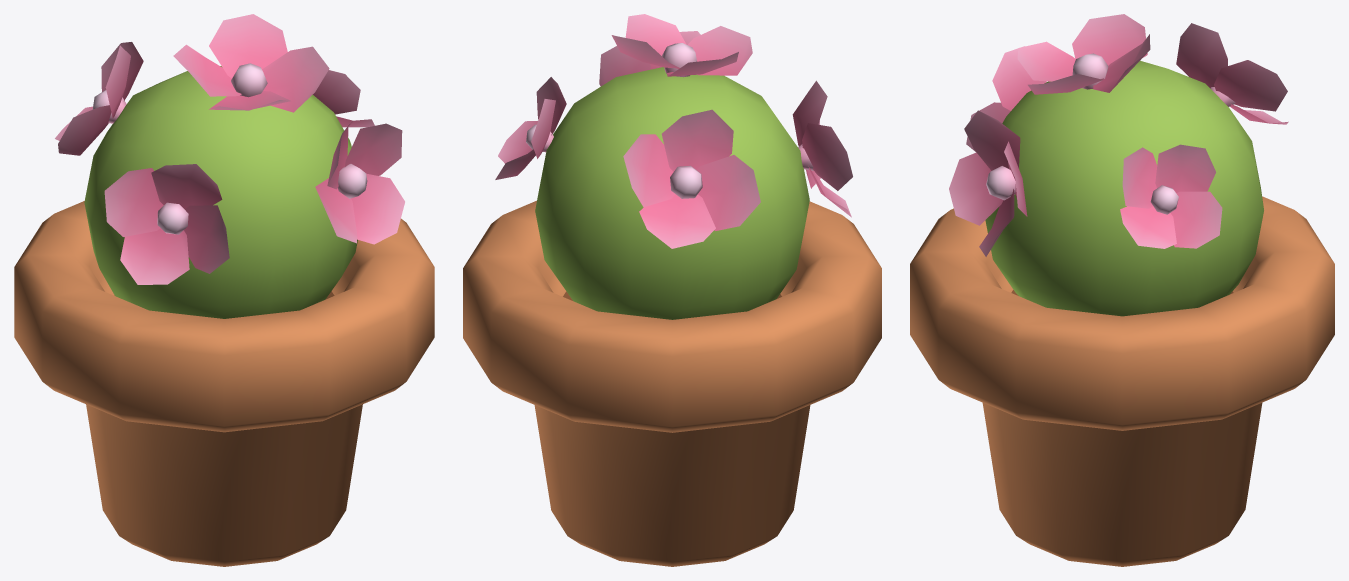
File: mct_homepart_flowerpot02.fbx
The picture shows the model from 3 angles, left to right: view 1: azimuth 30°, elevation 25°; view 2: azimuth 150°, elevation 25°; view 3: azimuth 270°, elevation 25°; orthographic projection.
Parts seen in each view (by area): view 1: flower_pot_02; view 2: flower_pot_02; view 3: flower_pot_02.
Part boxes in pixels (x1,y1,x2,y2): flower_pot_02: [14, 14, 434, 566]; flower_pot_02: [463, 14, 881, 566]; flower_pot_02: [910, 14, 1334, 566].
Bounding box in the file's own units: 65.53 × 84.05 × 65.53.
